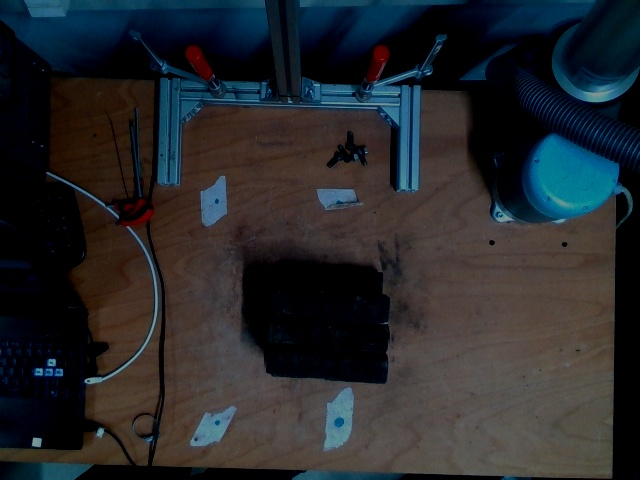brick-side: (270, 284, 387, 324), (267, 314, 384, 354), (266, 352, 388, 381)
